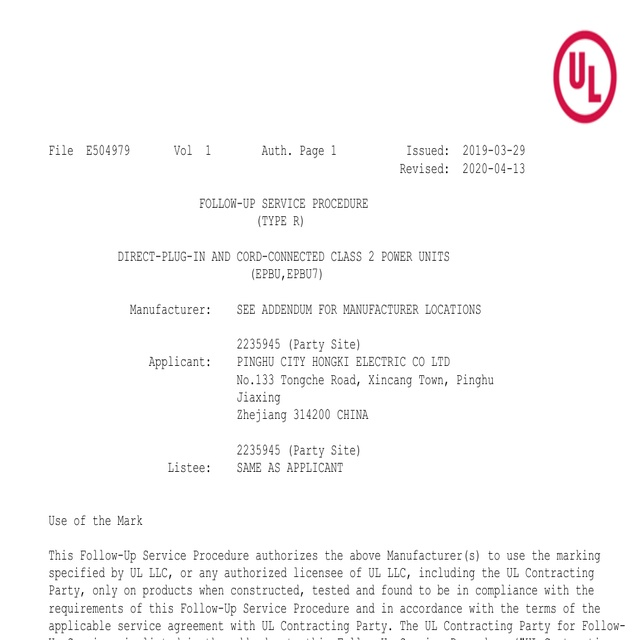ul: (553, 30, 618, 122)
